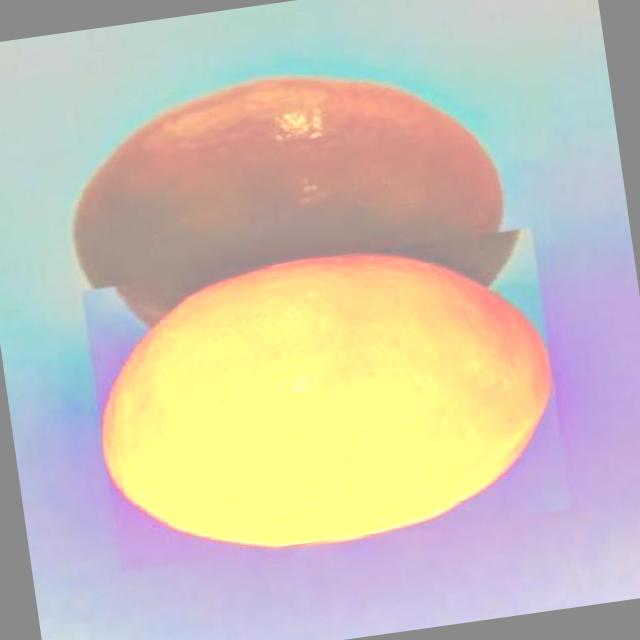Orange: (82, 228, 571, 572)
